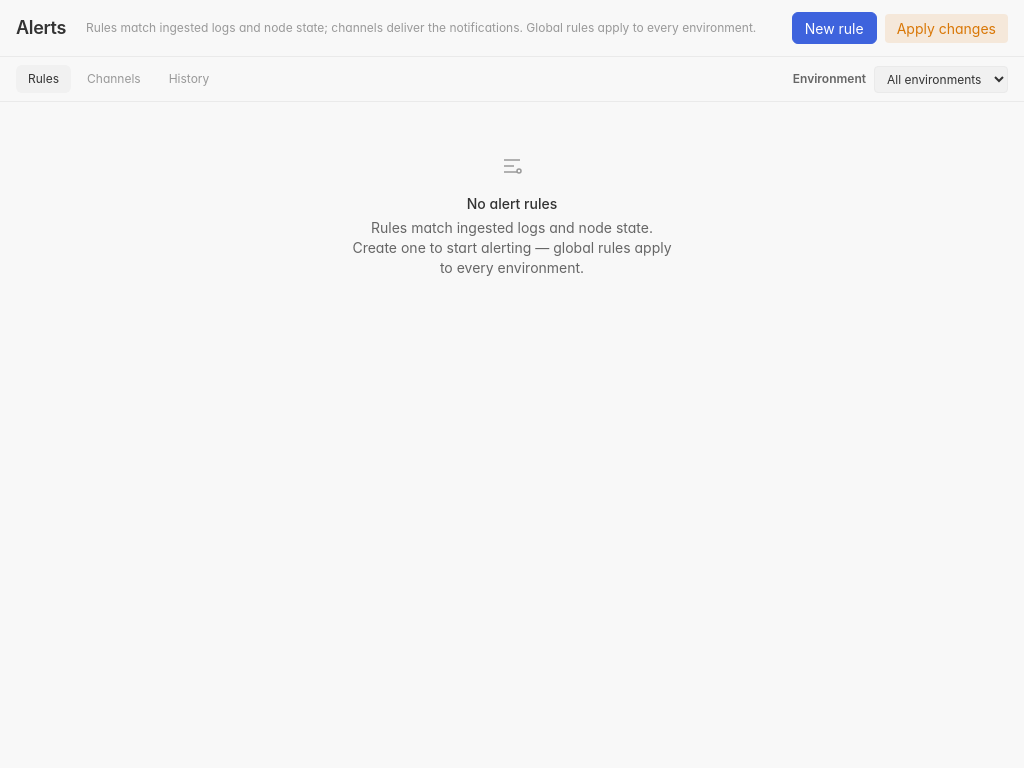
Test: AlertsPage › shows why a channel test failed
The width and height of the screenshot is (1024, 768).
Click the tab "Channels".
click(114, 79)  # box [75, 65, 153, 93]
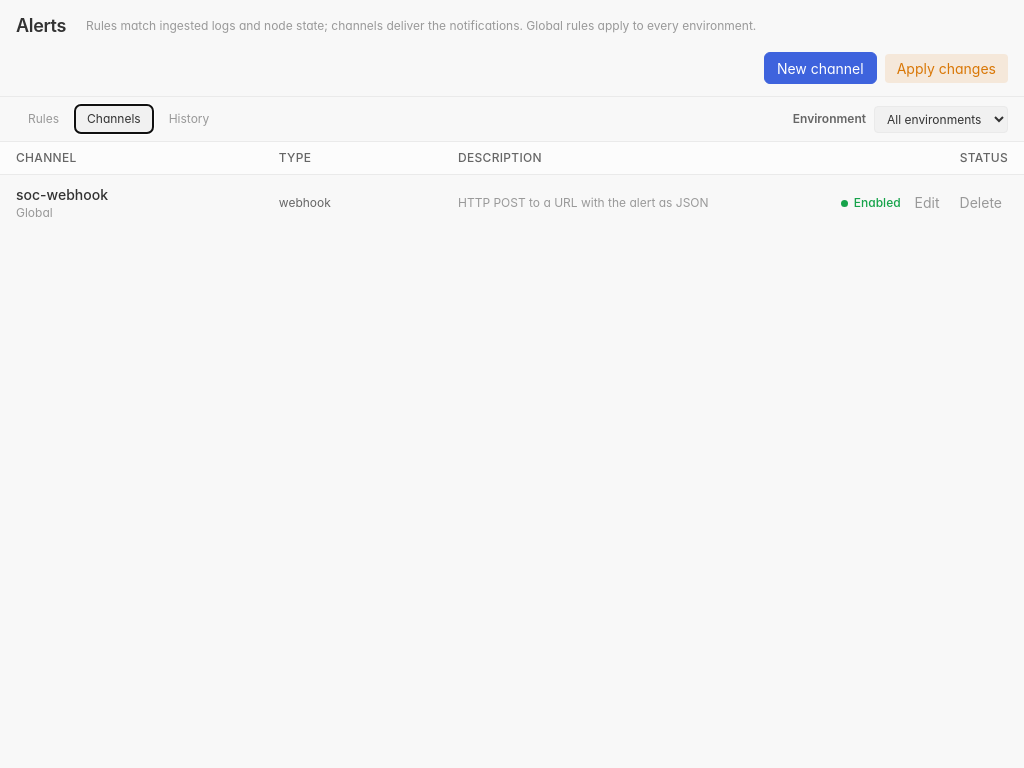
Click the button "Edit".
click(927, 203)  # box [909, 191, 946, 215]
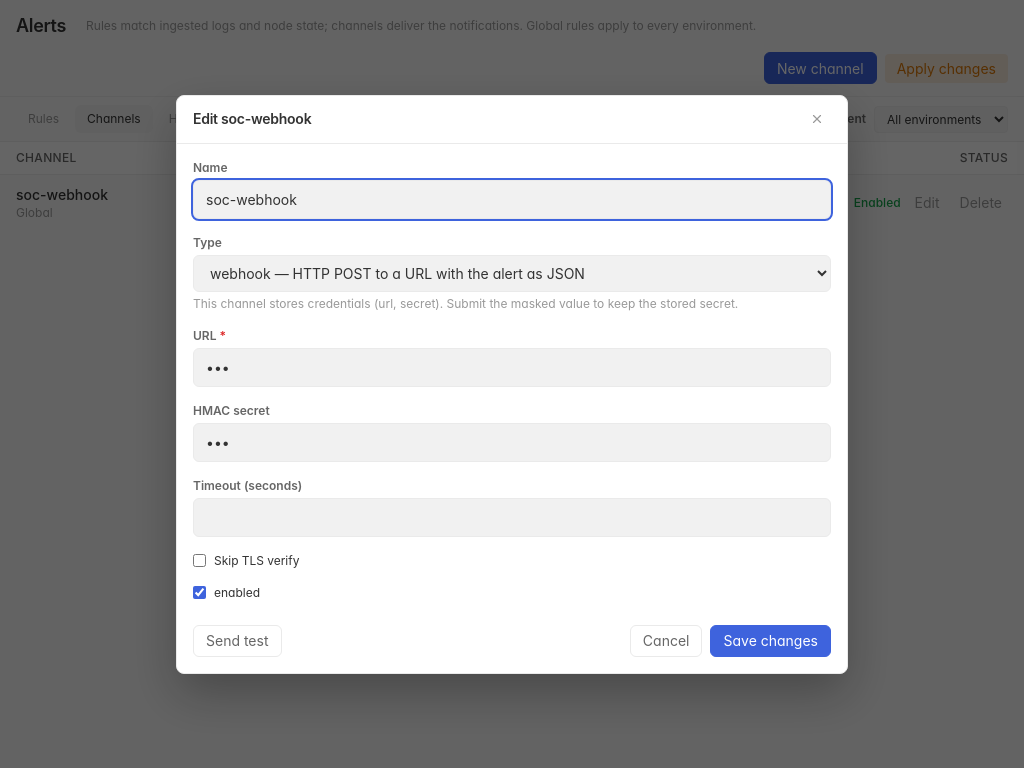
Click the button "Send test".
click(237, 640)  # box [193, 624, 282, 656]
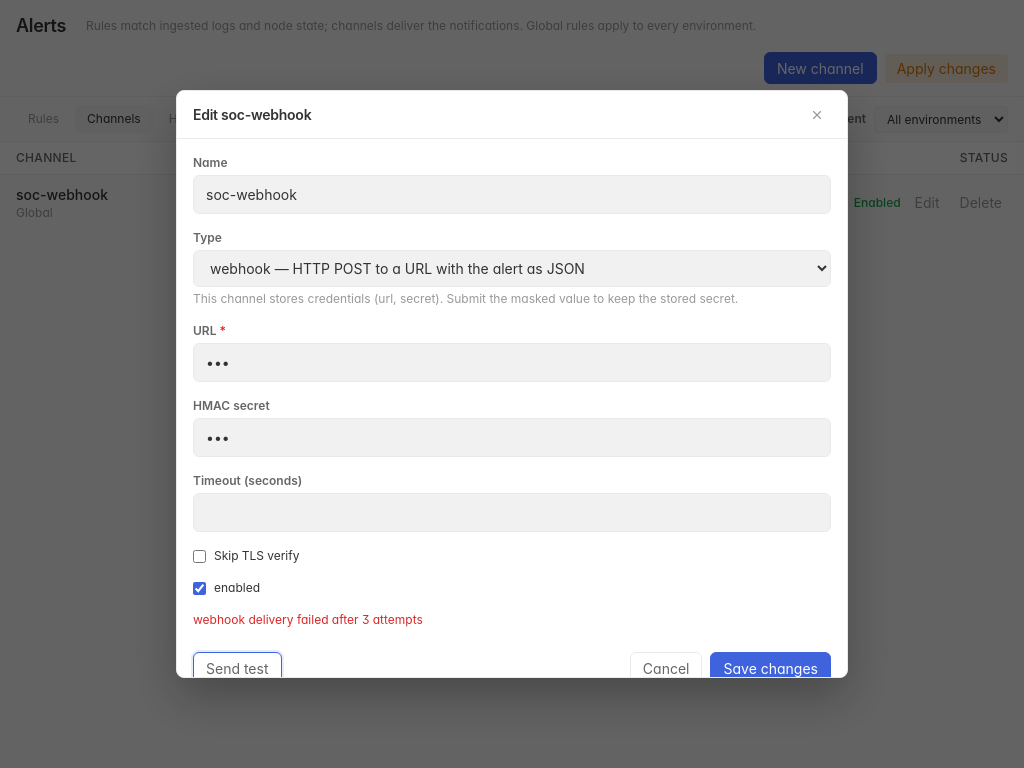
Now the text "webhook delivery failed after 3 attempts" is shown, box [193, 612, 423, 627]
